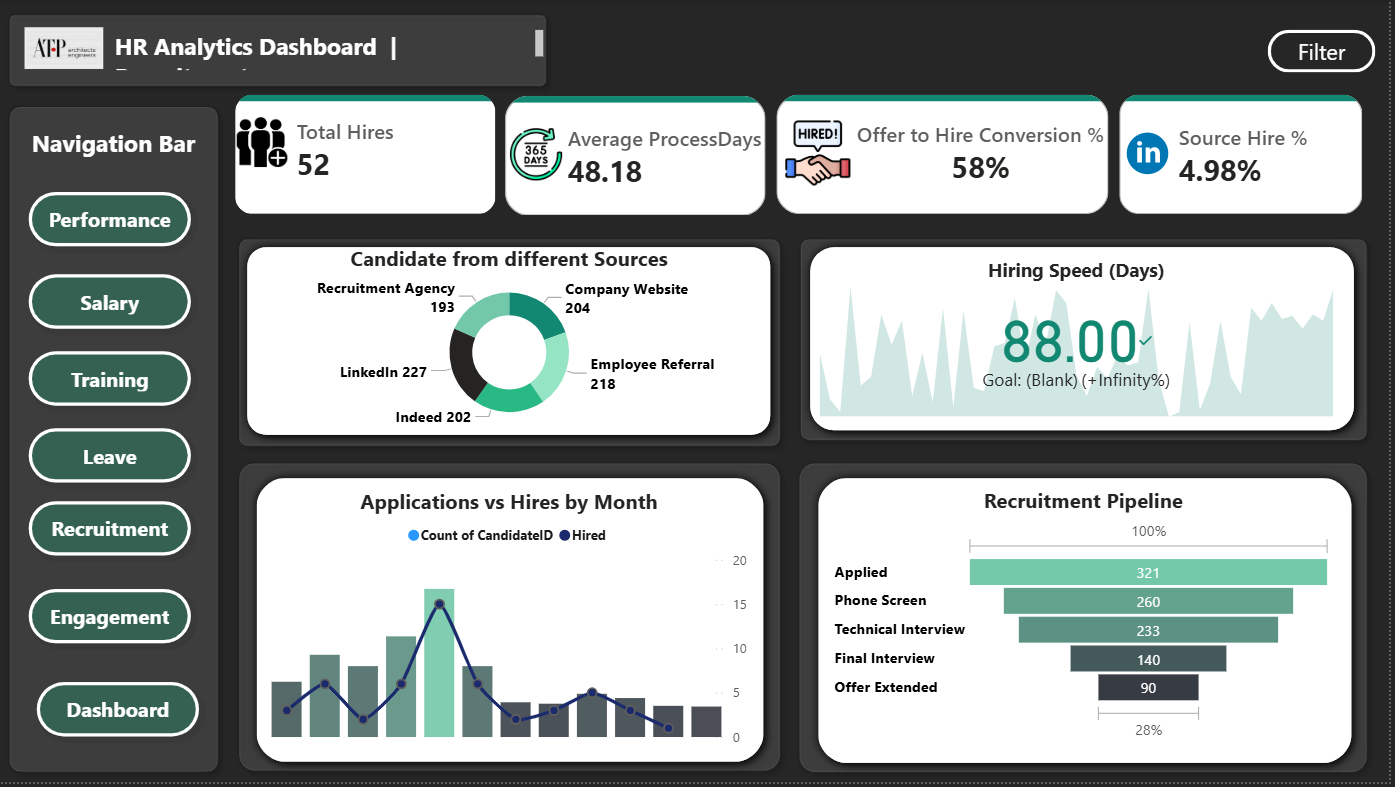

What the dashboard file says about the page in this screenshot:
{"tool":"powerbi","page":{"name":"🔍Recruitment","canvas":[1280,720],"ordinal":6},"visuals":[{"type":"group","id":"g1","title":"Comapny Title","box":[0,5.4,512.2,83.1],"z":0},{"type":"shape","box":[0,5.4,512.2,83.1],"z":0,"group":"g1"},{"type":"group","id":"g2","title":"KPIs","box":[211,82.7,1048.9,120.7],"z":0,"group":"g3"},{"type":"cardVisual","fields":{"Data":["06_Recruitment_Data_Dim.Average ProcessDays"]},"box":[460.3,83.4,250.6,120],"z":0,"group":"g2"},{"type":"shape","box":[0,89.9,209.8,630.7],"z":0,"group":"g6"},{"type":"shape","box":[211,211.1,516.3,208.4],"z":0,"group":"g4"},{"type":"shape","box":[728.7,211.1,539.4,203],"z":0,"group":"g7"},{"type":"shape","box":[211.1,418.2,516.3,301],"z":0,"group":"g8"},{"type":"shape","box":[727.4,418.2,540.8,302.4],"z":0,"group":"g5"},{"type":"textbox","box":[100.6,23.4,405.1,46.9],"z":1000,"group":"g1"},{"type":"group","id":"g3","title":"KPIs","box":[211,82.7,1048.9,120.7],"z":1000},{"type":"cardVisual","fields":{"Data":["06_Recruitment_Data_Dim.Offer to Hire Conversion %"]},"box":[709.6,82.7,316,120],"z":1000,"group":"g2"},{"type":"shape","box":[217.9,219.1,499.9,190.7],"z":1000,"group":"g4"},{"type":"shape","box":[737.2,219.1,519,186.6],"z":1000,"group":"g7"},{"type":"shape","box":[227.3,431.6,484.9,279.2],"z":1000,"group":"g8"},{"type":"shape","box":[744.4,431.9,509.2,280.4],"z":1000,"group":"g5"},{"type":"image","box":[17.7,20.2,82.5,49],"z":2000,"group":"g1"},{"type":"cardVisual","fields":{"Data":["06_Recruitment_Data_Dim.Source Hire %"]},"box":[1025.6,82.7,234.3,120],"z":2000,"group":"g2"},{"type":"group","id":"g4","title":"Pie Chart","box":[211,211.1,516.3,208.4],"z":2000},{"type":"donutChart","title":"Candidate from different Sources","fields":{"Category":["06_Recruitment_Data_Dim.Source"],"Y":["CountNonNull(06_Recruitment_Data_Dim.CandidateID)"]},"box":[236.9,224.6,463.1,174.4],"z":2000,"group":"g4"},{"type":"kpi","title":"Hiring Speed (Days)","fields":{"Indicator":["Avg(06_Recruitment_Data_Dim.DaysInProcess)"],"Goal":["06_Recruitment_Data_Dim.Target Days"],"TrendLine":["06_Recruitment_Data_Dim.Hire Date"]},"box":[749.5,235.4,483.6,152.6],"z":2000,"group":"g7"},{"type":"funnel","title":"Recruitment Pipeline","fields":{"Category":["06_Recruitment_Data_Dim.CurrentStage"],"Y":["CountNonNull(06_Recruitment_Data_Dim.CandidateID)"]},"box":[763.8,448.6,469.1,240.1],"z":2000,"group":"g5"},{"type":"lineStackedColumnComboChart","title":"Applications vs Hires by Month","fields":{"Y":["CountNonNull(06_Recruitment_Data_Dim.CandidateID)"],"Y2":["06_Recruitment_Data_Dim.outcome"],"Category":["06_Recruitment_Data_Dim.ApplicationDate.Variation.Date Hierarchy.Month"]},"box":[245,449.3,448.1,243.8],"z":2000,"group":"g8"},{"type":"cardVisual","fields":{"Data":["06_Recruitment_Data_Dim.Total Hires"]},"box":[211,83.3,250,120],"z":3000,"group":"g2"},{"type":"group","id":"g5","title":"Bubble chart","box":[727.4,418.2,540.8,302.4],"z":3000},{"type":"group","id":"g6","title":"Nav Bar","box":[0,89.9,209.8,630.7],"z":4000},{"type":"group","id":"g7","title":"Area chart","box":[728.7,211.1,539.4,203],"z":5000},{"type":"group","id":"g8","title":"Bubble chart","box":[211.1,418.2,516.3,301],"z":6000},{"type":"actionButton","box":[1168.7,27.2,99.4,39.5],"z":8000},{"type":"actionButton","box":[17.7,167.5,167.5,68.1],"z":9000},{"type":"actionButton","box":[17.7,314.7,167.5,68.1],"z":10000},{"type":"actionButton","box":[17.7,385.5,167.5,68.1],"z":11000},{"type":"actionButton","box":[17.7,453.6,167.5,68.1],"z":12000},{"type":"actionButton","box":[17.7,534,167.5,68.1],"z":13000},{"type":"actionButton","box":[17.7,243.8,167.5,68.1],"z":14000},{"type":"textbox","box":[17.7,111.7,174.4,57.2],"z":15000},{"type":"actionButton","box":[24.5,619.8,167.5,68.1],"z":16000}]}

Visuals, with their boxes in screenshot pixels (x1, y1, x2, y2), scaled from the page's 1280x720 canvas onto the 1395x787 screenshot:
"Comapny Title" group: (0,6,558,97)
shape: (0,6,558,97)
"KPIs" group: (230,90,1373,222)
cardVisual - 06_Recruitment_Data_Dim.Average ProcessDays: (502,91,775,222)
shape: (0,98,229,786)
shape: (230,231,793,459)
shape: (794,231,1382,453)
shape: (230,457,793,786)
shape: (793,457,1382,786)
textbox: (110,26,551,77)
"KPIs" group: (230,90,1373,222)
cardVisual - 06_Recruitment_Data_Dim.Offer to Hire Conversion %: (773,90,1118,222)
shape: (237,239,782,448)
shape: (803,239,1369,443)
shape: (248,472,776,777)
shape: (811,472,1366,779)
image: (19,22,109,76)
cardVisual - 06_Recruitment_Data_Dim.Source Hire %: (1118,90,1373,222)
"Pie Chart" group: (230,231,793,459)
"Candidate from different Sources" donutChart: (258,246,763,436)
"Hiring Speed (Days)" kpi: (817,257,1344,424)
"Recruitment Pipeline" funnel: (832,490,1344,753)
"Applications vs Hires by Month" lineStackedColumnComboChart: (267,491,755,758)
cardVisual - 06_Recruitment_Data_Dim.Total Hires: (230,91,502,222)
"Bubble chart" group: (793,457,1382,786)
"Nav Bar" group: (0,98,229,786)
"Area chart" group: (794,231,1382,453)
"Bubble chart" group: (230,457,793,786)
actionButton: (1274,30,1382,73)
actionButton: (19,183,202,258)
actionButton: (19,344,202,418)
actionButton: (19,421,202,496)
actionButton: (19,496,202,570)
actionButton: (19,584,202,658)
actionButton: (19,266,202,341)
textbox: (19,122,209,185)
actionButton: (27,677,209,752)
